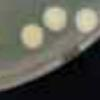yellow: (74, 3, 100, 37), (41, 6, 68, 33), (16, 22, 43, 48)
